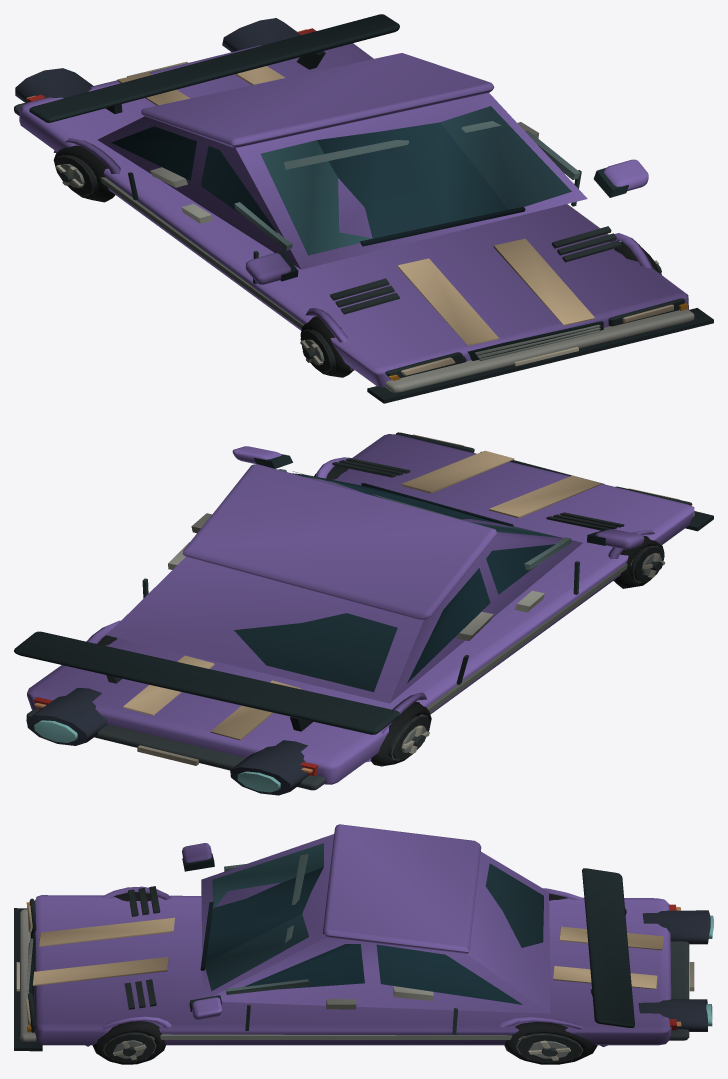
The model's file is booster.glb.
3 renders of one model, top to bottom at view 1: azimuth 30°, elevation 25°; view 2: azimuth 150°, elevation 25°; view 3: azimuth 270°, elevation 25°, orthographic. The views are drawn at different scales.
Parts seen in each view (by area): view 1: booster_body; view 2: booster_body; view 3: booster_body.
Part boxes in pixels (<box>): booster_body: <box>14,14,713,403</box>; booster_body: <box>14,432,713,795</box>; booster_body: <box>14,824,713,1064</box>.
Bounding box in the file's own units: 2.4 × 0.7957 × 4.19.
